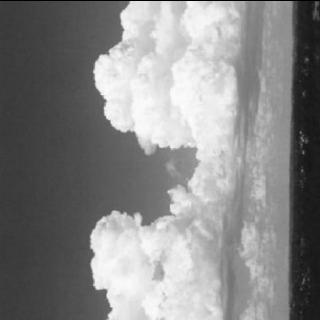Cumulonimbus: (11, 0, 289, 320)
